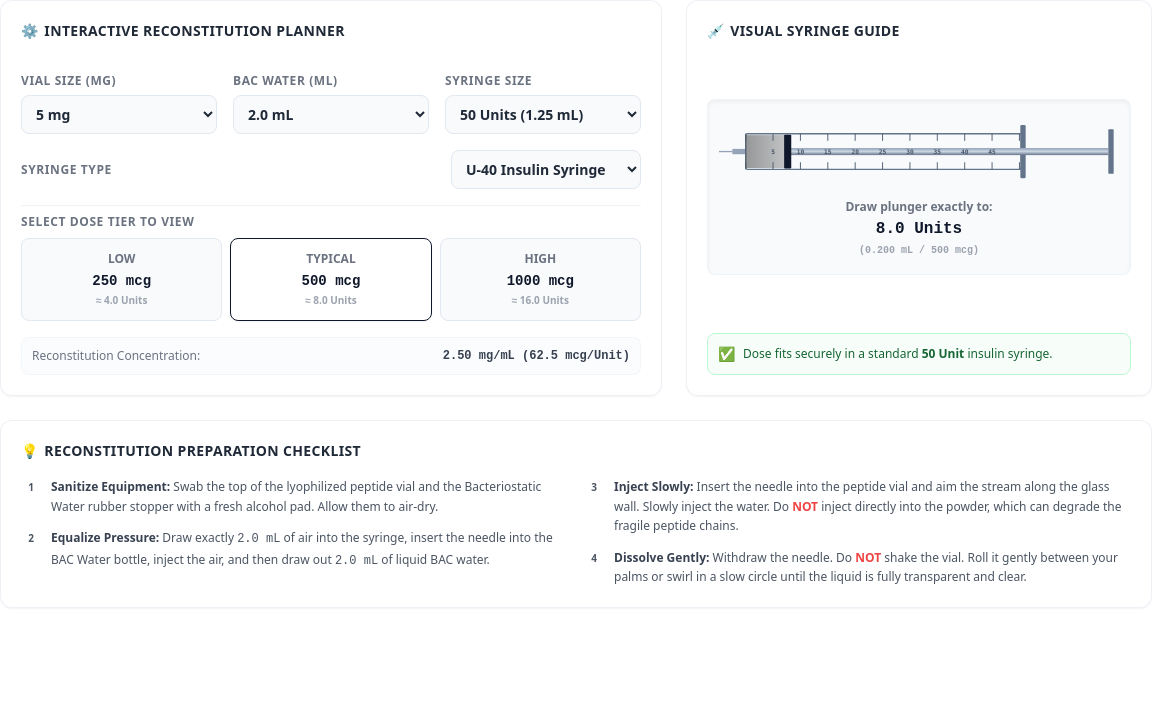
DosingReconstitutionPlanner Client Component › matches the standalone calculator for 20mg/2mL/500mcg on a U-40 syringe (2.0 Units)
This screenshot has width=1152, height=720.
Select "Custom..." in the dropdown labelled "Vial Size (mg)" at (119, 114), box [21,95,217,134]
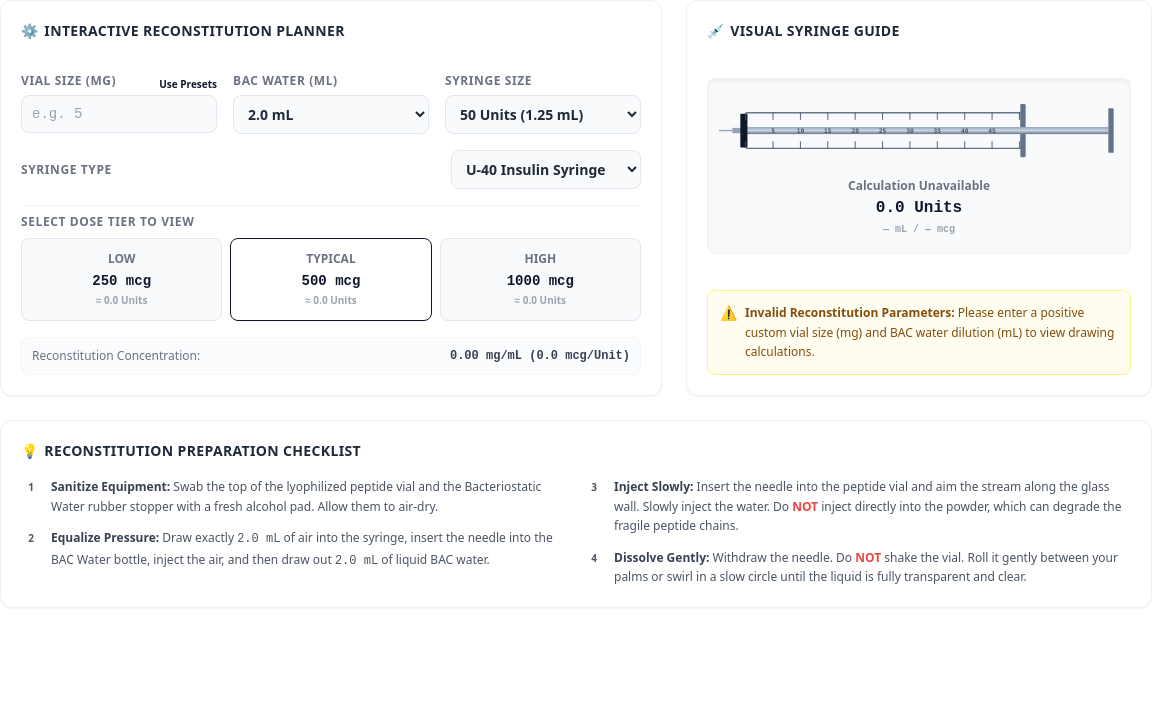
Type "20" into the number field with id "custom-vial-input".
click(119, 114); type("20")  # box [21,95,217,133]
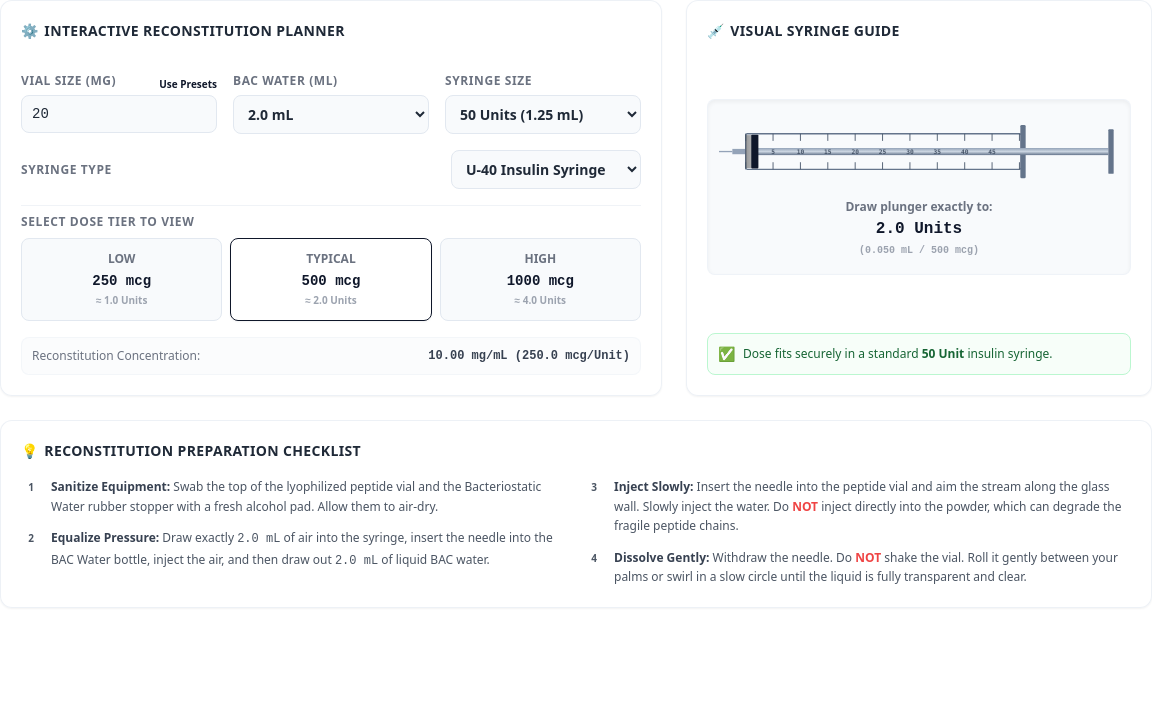
expect the text with id "draw-units-text" reads "2.0 Units": met, box [876,220,962,238]
